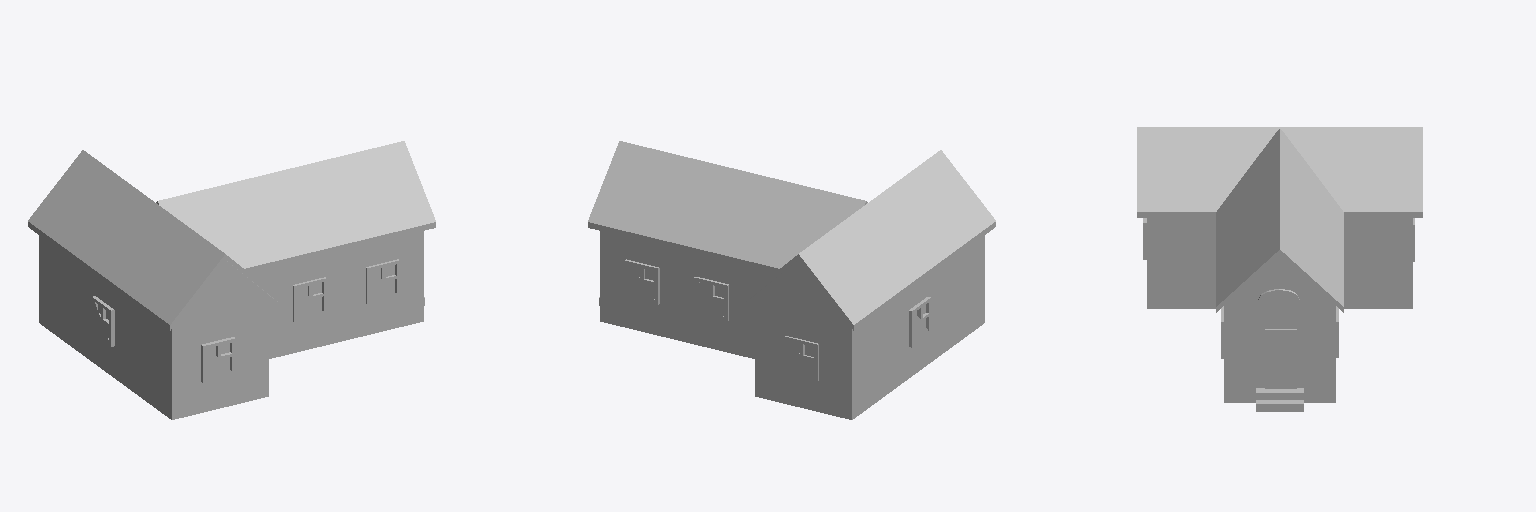
Rendered from school_high_poly.obj.
The picture shows the model from 3 angles: view 1: azimuth 30°, elevation 25°; view 2: azimuth 150°, elevation 25°; view 3: azimuth 270°, elevation 25°; orthographic projection.
Parts seen in each view (by area): view 1: House.001_Cube.003, Roof_Cube.001, Roof.001_Cube.004, House_Cube, Window_1_Cube.002, Window_3_Cube.006, Window_2_Cube.007, Window_9_Cube.011; view 2: House.001_Cube.003, Roof_Cube.001, Roof.001_Cube.004, House_Cube, Window_7_Cube.008, Window_6_Cube.010, Window_8_Cube.009, Window_9_Cube.011; view 3: Roof.001_Cube.004, Roof_Cube.001, House.001_Cube.003, House_Cube, Door_Cube.012, Step_Cube.013, Plane_Plane.001.
Part boxes in pixels (left/top/right/bottom): House.001_Cube.003: left=39, top=235, right=268, bottom=419; Roof_Cube.001: left=156, top=141, right=435, bottom=272; Roof.001_Cube.004: left=28, top=150, right=280, bottom=330; House_Cube: left=250, top=231, right=423, bottom=358; Window_1_Cube.002: left=201, top=337, right=235, bottom=382; Window_3_Cube.006: left=366, top=259, right=399, bottom=304; Window_2_Cube.007: left=293, top=277, right=326, bottom=322; Window_9_Cube.011: left=92, top=296, right=114, bottom=346; House.001_Cube.003: left=755, top=235, right=984, bottom=419; Roof_Cube.001: left=588, top=141, right=867, bottom=272; Roof.001_Cube.004: left=743, top=150, right=995, bottom=330; House_Cube: left=600, top=231, right=773, bottom=358; Window_7_Cube.008: left=694, top=277, right=728, bottom=321; Window_6_Cube.010: left=625, top=259, right=659, bottom=304; Window_8_Cube.009: left=785, top=336, right=818, bottom=380; Window_9_Cube.011: left=909, top=297, right=930, bottom=347; Roof.001_Cube.004: left=1137, top=127, right=1422, bottom=217; Roof_Cube.001: left=1216, top=129, right=1343, bottom=312; House.001_Cube.003: left=1147, top=218, right=1412, bottom=308; House_Cube: left=1224, top=256, right=1335, bottom=402; Door_Cube.012: left=1265, top=329, right=1296, bottom=388; Step_Cube.013: left=1256, top=388, right=1303, bottom=411; Plane_Plane.001: left=1258, top=289, right=1299, bottom=310.
Size of the model in its own units: 0.8064 by 0.3879 by 0.6337.